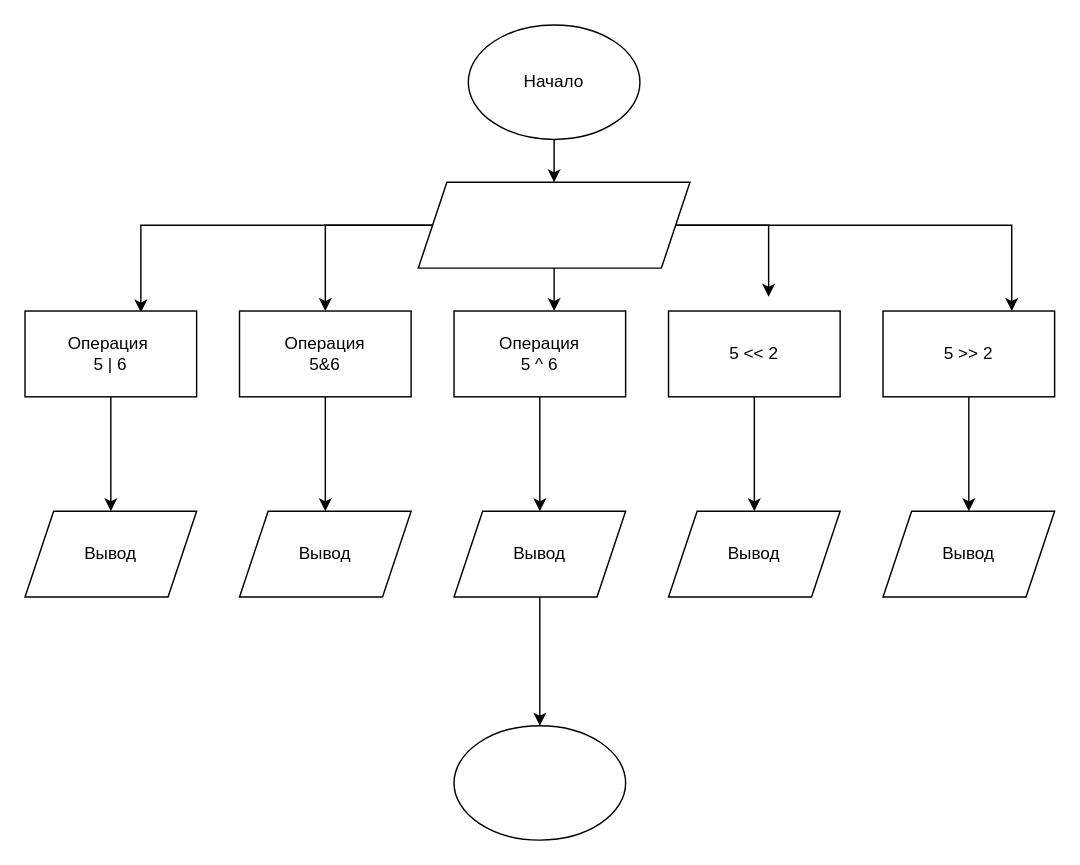
The diagram is 1080 pixels wide and 865 high, and some of its shapes have lost their labels. Here are the shapes that lost their labels. From the top down, the centre of each, then its label:
the point at 553,224: Ввод Введите цифры 5 и 6
the point at 539,782: Конец
